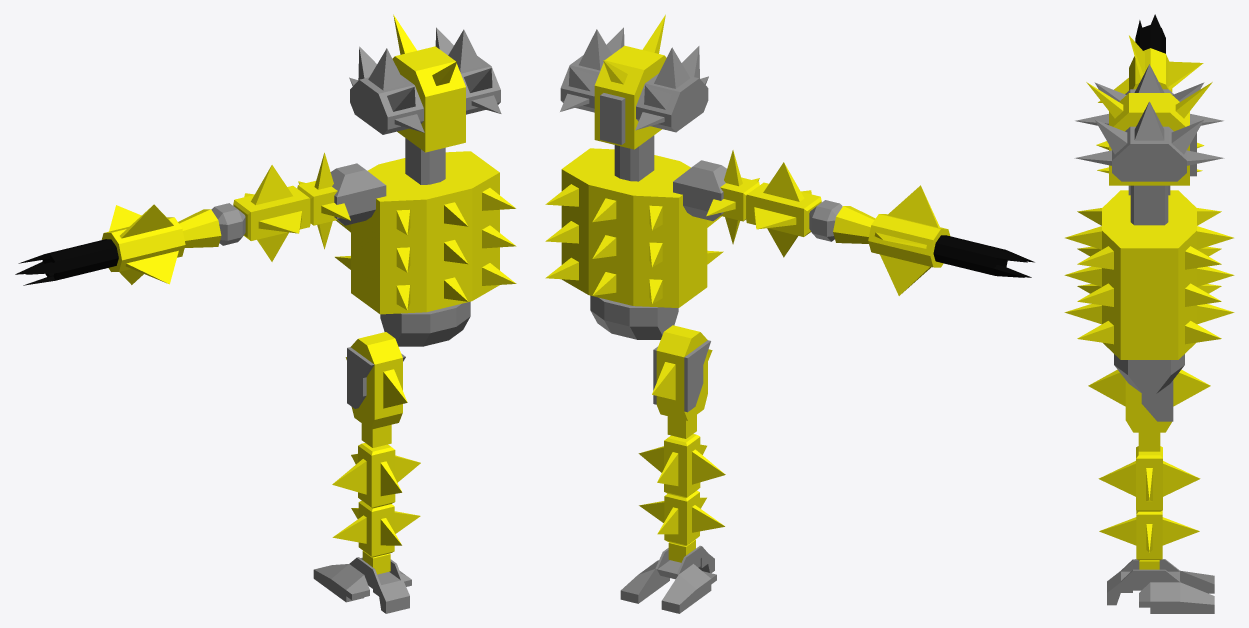
File: level2robotAyrıParçalar.fbx
3 renders of one model, left to right at view 1: azimuth 30°, elevation 25°; view 2: azimuth 150°, elevation 25°; view 3: azimuth 270°, elevation 25°, orthographic. The views are drawn at different scales.
Visible parts, largest first — view 1: Body, Head, leftdownLeg, LeftDownArm, leftuparm, leftupLeg, leftfoot, LeftGun, leftshoulder, leftelbow; view 2: Body, Head, LeftDownArm, leftdownLeg, leftuparm, leftupLeg, leftfoot, LeftGun, leftshoulder, leftelbow; view 3: Body, Head, leftdownLeg, leftfoot, leftupLeg, LeftDownArm, LeftGun.
Boxes of the visible parts, <box> form: Body: <box>335,138,516,346</box>; Head: <box>349,14,501,152</box>; leftdownLeg: <box>332,443,420,574</box>; LeftDownArm: <box>101,204,221,284</box>; leftuparm: <box>233,152,350,261</box>; leftupLeg: <box>345,332,407,447</box>; leftfoot: <box>313,557,411,613</box>; LeftGun: <box>15,239,118,285</box>; leftshoulder: <box>330,163,386,225</box>; leftelbow: <box>211,203,245,245</box>; Body: <box>545,135,723,339</box>; Head: <box>560,14,708,149</box>; LeftDownArm: <box>833,185,950,295</box>; leftdownLeg: <box>638,434,725,562</box>; leftuparm: <box>706,150,821,257</box>; leftupLeg: <box>652,325,712,438</box>; leftfoot: <box>620,545,716,613</box>; LeftGun: <box>933,235,1034,277</box>; leftshoulder: <box>673,160,726,221</box>; leftelbow: <box>809,200,842,241</box>; Body: <box>1064,185,1234,393</box>; Head: <box>1074,64,1224,185</box>; leftdownLeg: <box>1098,446,1200,569</box>; leftfoot: <box>1107,559,1214,613</box>; leftupLeg: <box>1088,369,1210,451</box>; LeftDownArm: <box>1098,35,1203,102</box>; LeftGun: <box>1135,14,1165,53</box>.
Bounding box in the file's own units: 339 × 109 × 380.
